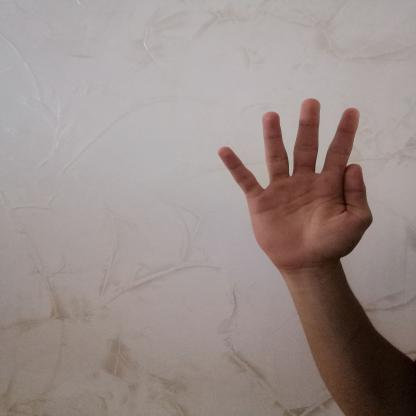SHEEN: (207, 92, 382, 280)
